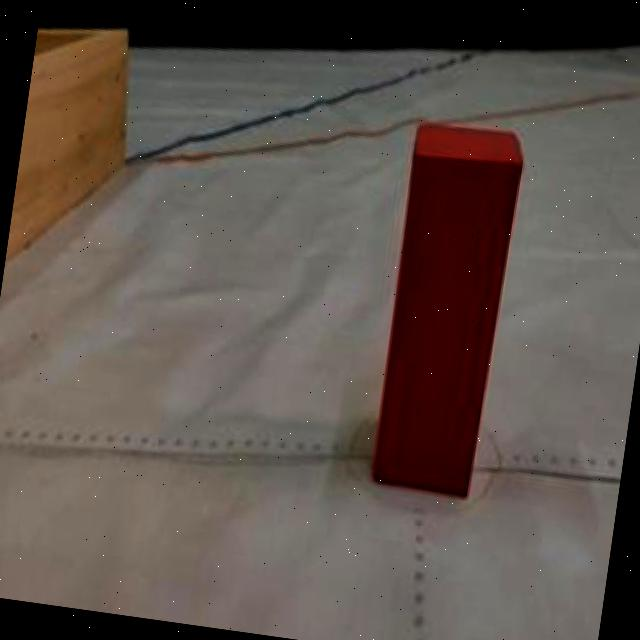redbox: (366, 118, 525, 501)
